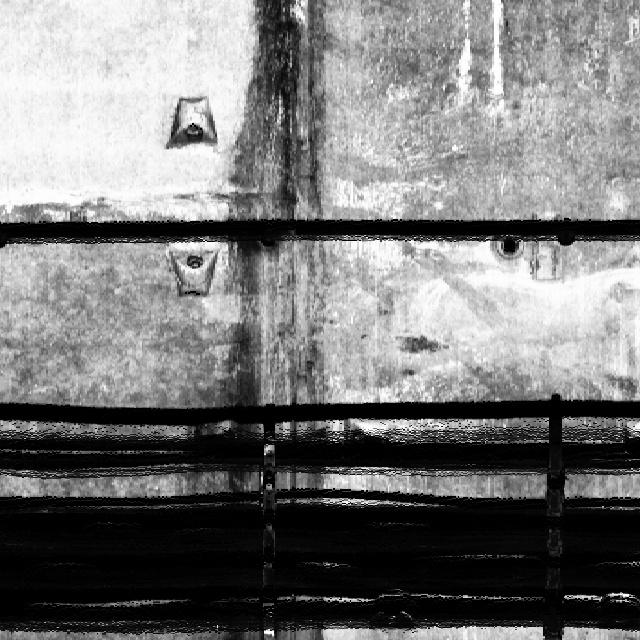leakage: (208, 0, 346, 502)
